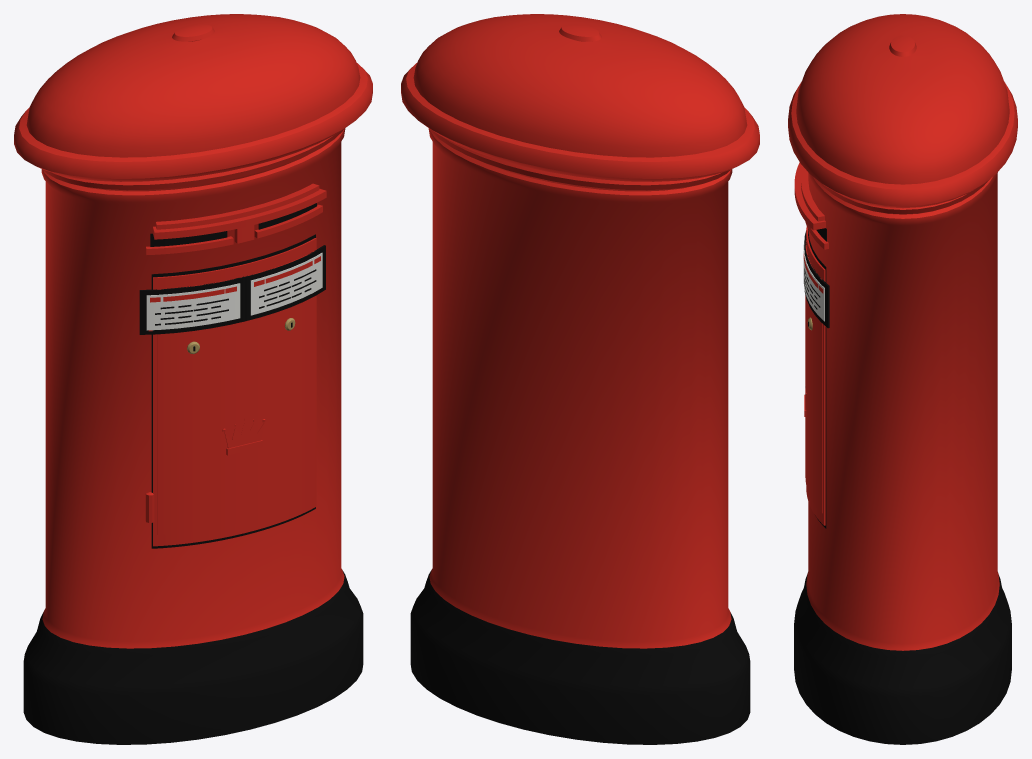
File: street.furniture.post_box_b.glb
3 renders of one model, left to right at view 1: azimuth 30°, elevation 25°; view 2: azimuth 150°, elevation 25°; view 3: azimuth 270°, elevation 25°, orthographic. The views are drawn at different scales.
Visible parts, largest first — view 1: main__enamel_c22, main__rubber, main__enamel_ddd, main__paint_c22; view 2: main__enamel_c22, main__rubber; view 3: main__enamel_c22, main__rubber, main__enamel_ddd.
Part boxes in pixels (x1,y1,x2,y2): main__enamel_c22: [14, 14, 372, 648]; main__rubber: [23, 203, 363, 744]; main__enamel_ddd: [146, 252, 322, 330]; main__paint_c22: [150, 256, 320, 302]; main__enamel_c22: [401, 14, 759, 648]; main__rubber: [410, 570, 750, 744]; main__enamel_c22: [788, 14, 1017, 650]; main__rubber: [794, 228, 1011, 744]; main__enamel_ddd: [803, 239, 824, 321].
Bounding box in the file's own units: 0.9234 × 1.72 × 0.57.
